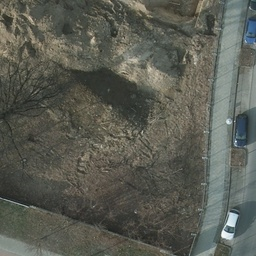car: (221, 207, 238, 240), (232, 115, 249, 148), (243, 17, 256, 43)
